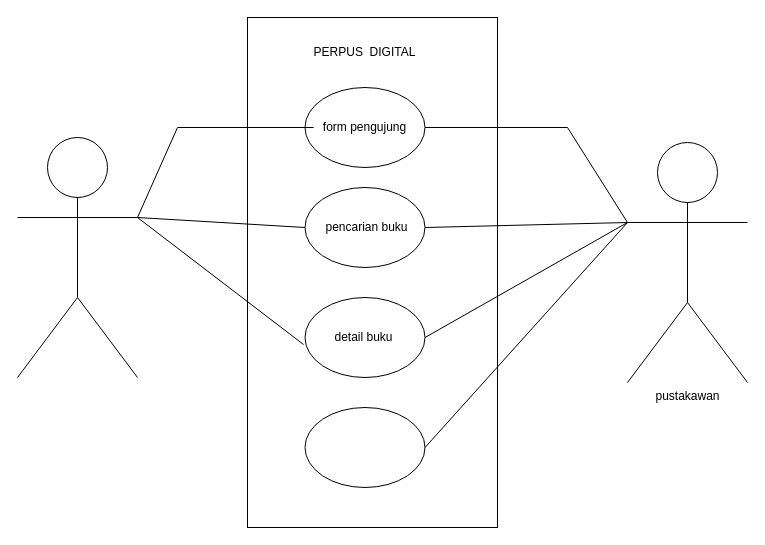
The diagram is 765 pixels wide and 545 high, and some of its shapes have lost their labels. Here are the shapes that lost their labels. From the top down, the box of each, then its label:
(16, 136, 138, 378): pengunjung
(304, 406, 425, 488): laporan statistik
